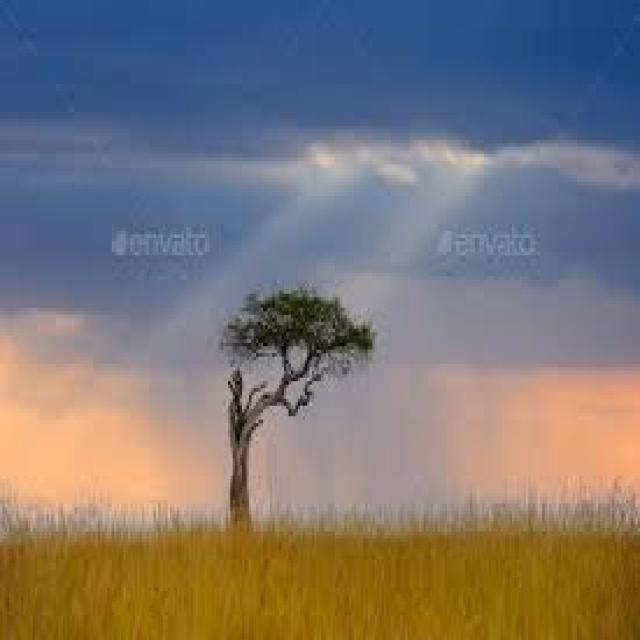Acacia: (190, 288, 392, 517)
